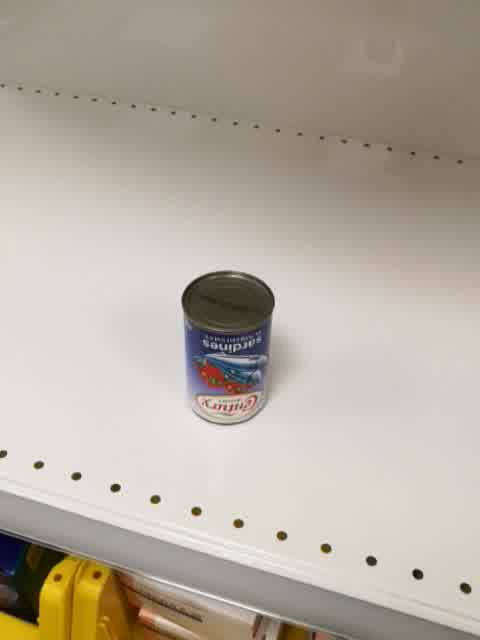sardine: (182, 270, 276, 426)
